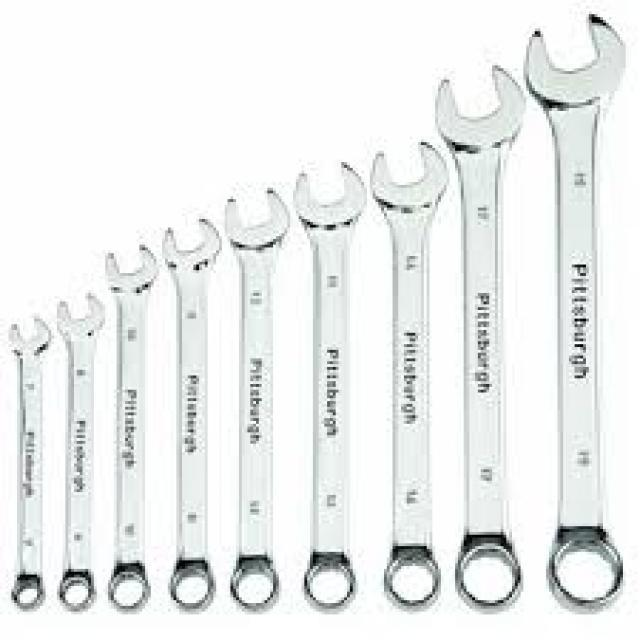wrench: (522, 11, 632, 615), (430, 61, 530, 616), (364, 138, 452, 614), (289, 156, 372, 618), (218, 182, 295, 613), (156, 210, 224, 614), (96, 236, 162, 618), (50, 289, 110, 618), (3, 309, 53, 616)
